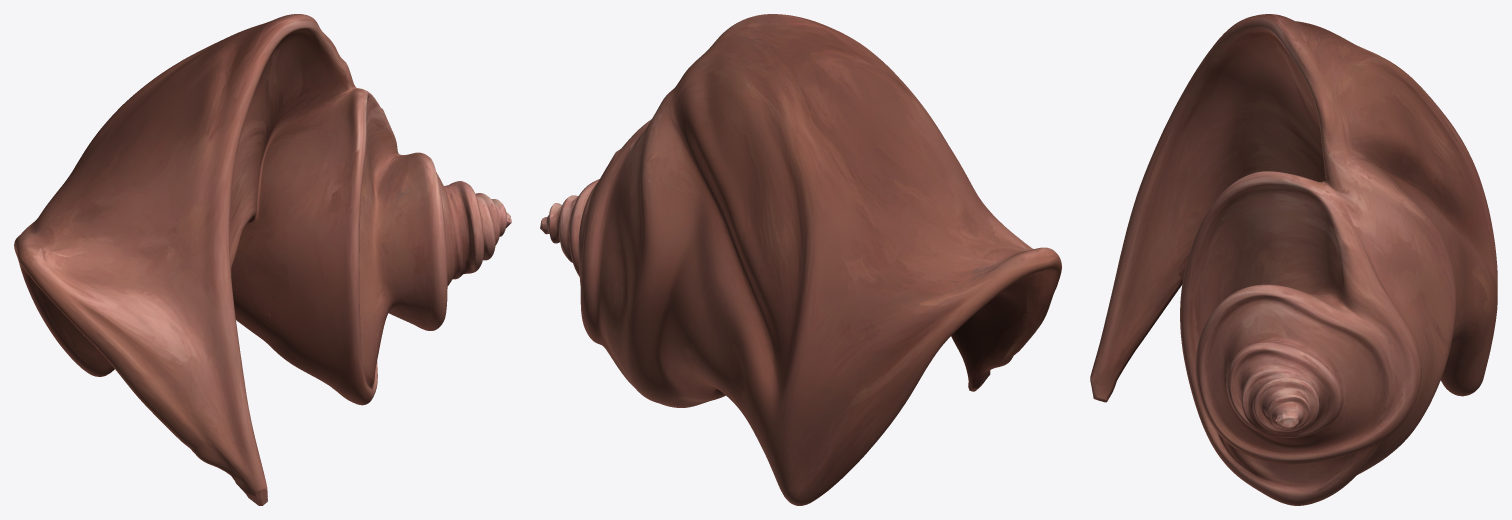
Rendered from red-conch.glb.
3 renders of one model, left to right at view 1: azimuth 30°, elevation 25°; view 2: azimuth 150°, elevation 25°; view 3: azimuth 270°, elevation 25°, orthographic. The views are drawn at different scales.
Parts seen in each view (by area): view 1: node_0; view 2: node_0; view 3: node_0.
Part boxes in pixels (<box>): node_0: <box>14,14,511,505</box>; node_0: <box>540,14,1061,505</box>; node_0: <box>1090,14,1497,505</box>.
Bounding box in the file's own units: 1.55 × 1.2 × 1.01.
1 material, 1 textured.
